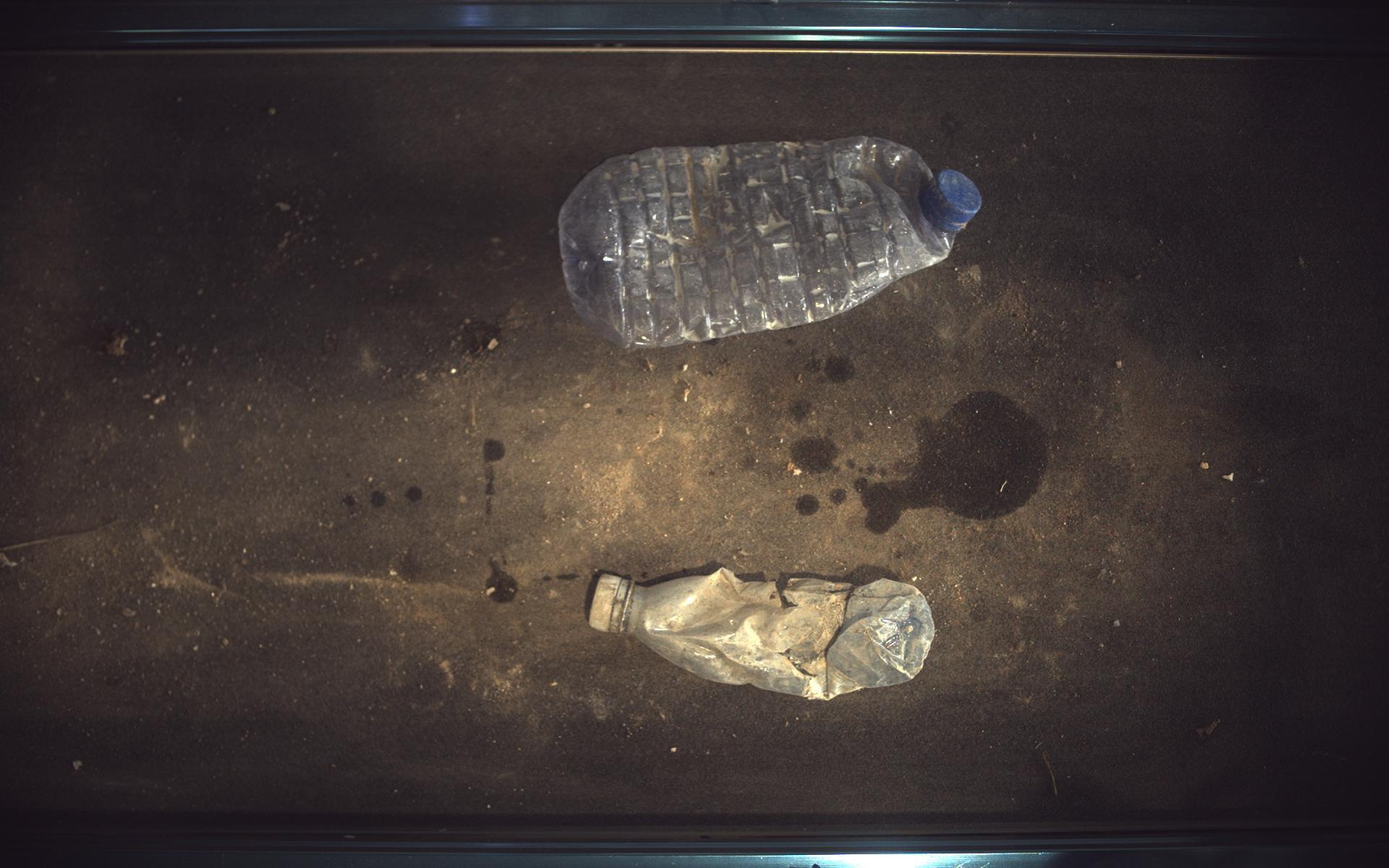general_w: (559, 136, 982, 348), (590, 569, 937, 701)
